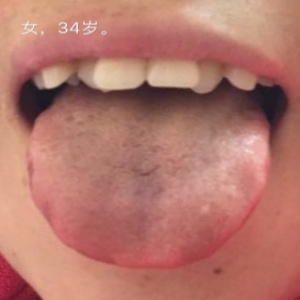st: (32, 110, 270, 264)
